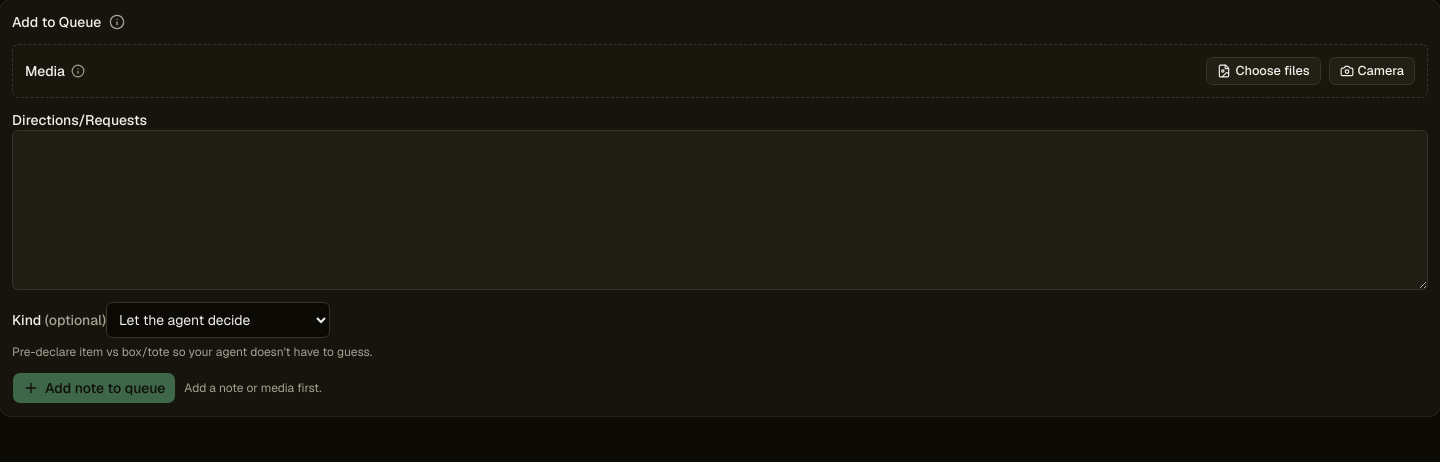
Test case: IngestionCaptureForm › keeps the quick note path available without requiring media
Expected: the text "Media" is shown, [25, 61, 85, 81]
Expected: the button "Choose files" is shown, [1206, 57, 1320, 85]
Type "Sell the lamp and keep the blue bin together." into the text box labelled "Directions/Requests".
click(720, 210); type("Sell the lamp and keep the blue bin together.")  # box [12, 130, 1428, 290]
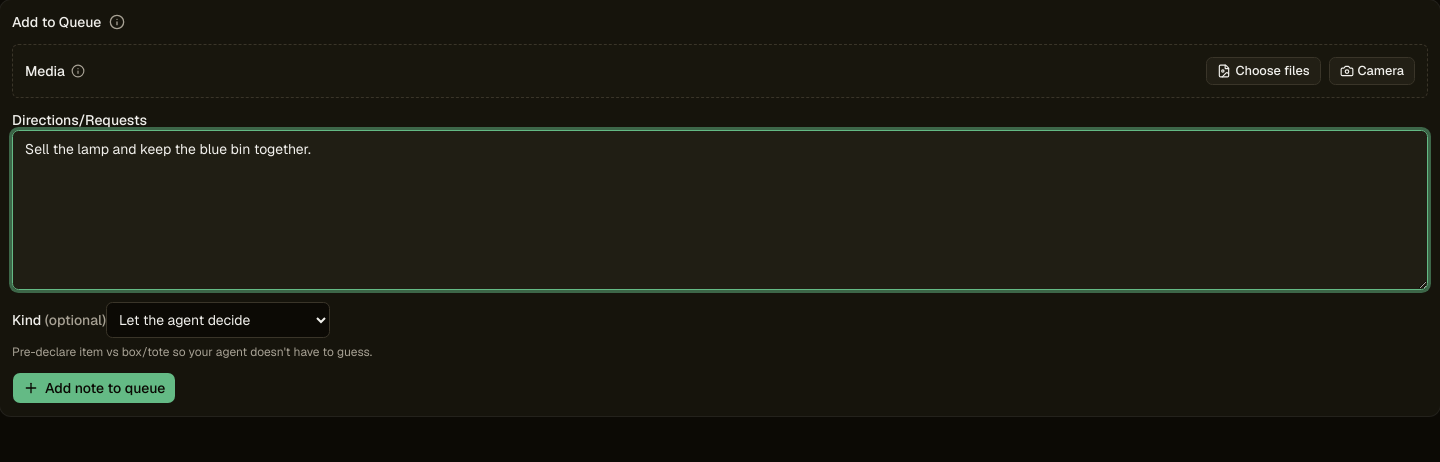
Click the button "Add note to queue".
click(94, 388)  # box [12, 372, 176, 404]
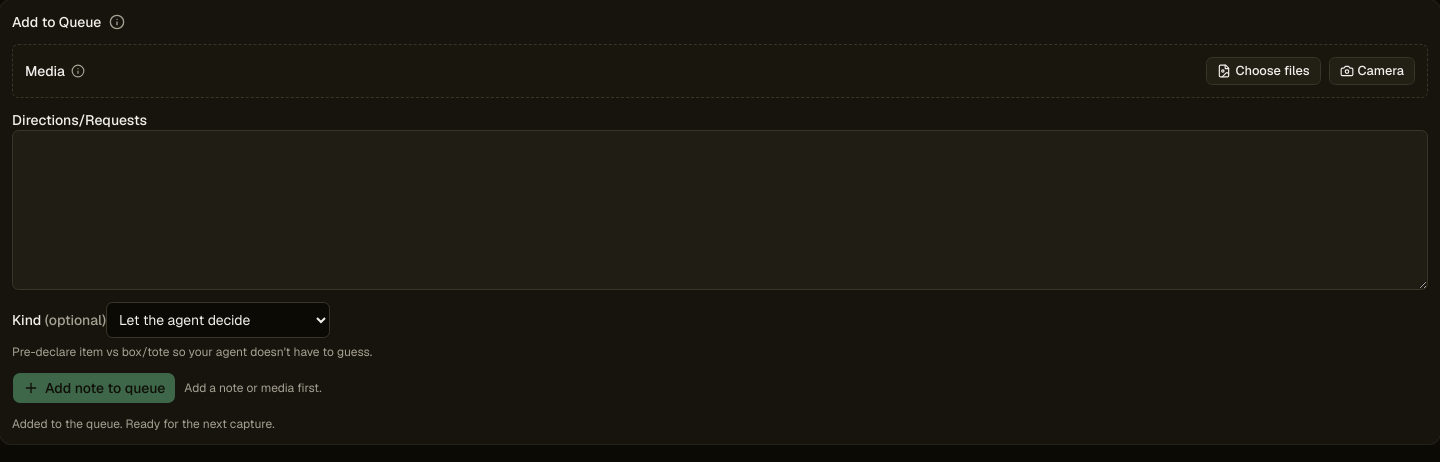
Now the text "Added to the queue. Ready for the next capture." is shown, box [12, 416, 274, 432]
